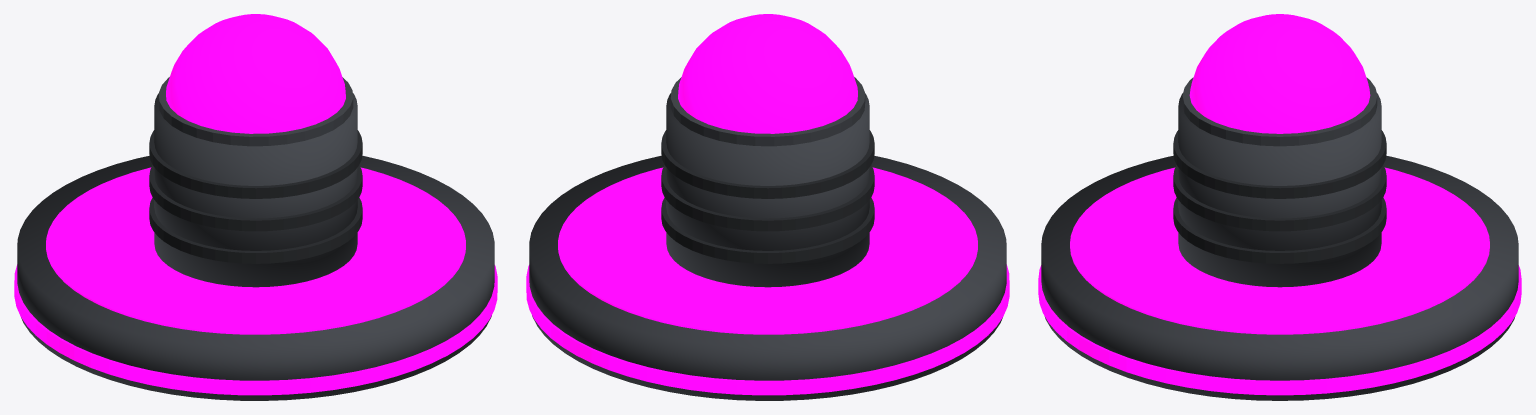
File: rebatedor_retro_synthwave_p1.glb
3 renders of one model, left to right at view 1: azimuth 30°, elevation 25°; view 2: azimuth 150°, elevation 25°; view 3: azimuth 270°, elevation 25°, orthographic.
Visible parts, largest first — view 1: Cylinder.002, Cylinder, Cylinder.003, Sphere, Cylinder.001, Cylinder.006, Cylinder.004, Cylinder.005, Cylinder.007; view 2: Cylinder.002, Cylinder, Cylinder.003, Sphere, Cylinder.001, Cylinder.006, Cylinder.004, Cylinder.005, Cylinder.007; view 3: Cylinder.002, Cylinder, Cylinder.003, Sphere, Cylinder.001, Cylinder.006, Cylinder.004, Cylinder.005, Cylinder.007.
Boxes of the visible parts, bbox=[...] form: Cylinder.002: bbox=[46, 167, 465, 334]; Cylinder: bbox=[17, 155, 494, 400]; Cylinder.003: bbox=[154, 93, 357, 287]; Sphere: bbox=[166, 14, 345, 133]; Cylinder.001: bbox=[14, 264, 497, 395]; Cylinder.006: bbox=[149, 130, 362, 198]; Cylinder.004: bbox=[149, 197, 362, 263]; Cylinder.005: bbox=[149, 165, 362, 231]; Cylinder.007: bbox=[158, 77, 353, 146]; Cylinder.002: bbox=[558, 167, 977, 334]; Cylinder: bbox=[529, 155, 1006, 400]; Cylinder.003: bbox=[666, 93, 869, 287]; Sphere: bbox=[678, 14, 857, 133]; Cylinder.001: bbox=[526, 264, 1009, 395]; Cylinder.006: bbox=[661, 130, 874, 198]; Cylinder.004: bbox=[661, 197, 874, 263]; Cylinder.005: bbox=[661, 165, 874, 231]; Cylinder.007: bbox=[670, 77, 865, 146]; Cylinder.002: bbox=[1070, 167, 1489, 334]; Cylinder: bbox=[1041, 155, 1518, 400]; Cylinder.003: bbox=[1178, 93, 1381, 287]; Sphere: bbox=[1189, 14, 1370, 133]; Cylinder.001: bbox=[1038, 265, 1521, 395]; Cylinder.006: bbox=[1173, 130, 1386, 198]; Cylinder.004: bbox=[1173, 197, 1386, 263]; Cylinder.005: bbox=[1173, 165, 1386, 231]; Cylinder.007: bbox=[1182, 77, 1377, 146].
Bounding box in the file's own units: 0.1619 × 0.1032 × 0.1619.
